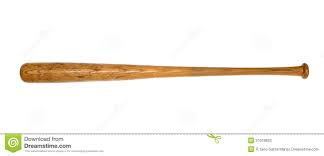bat: (18, 61, 311, 84)
